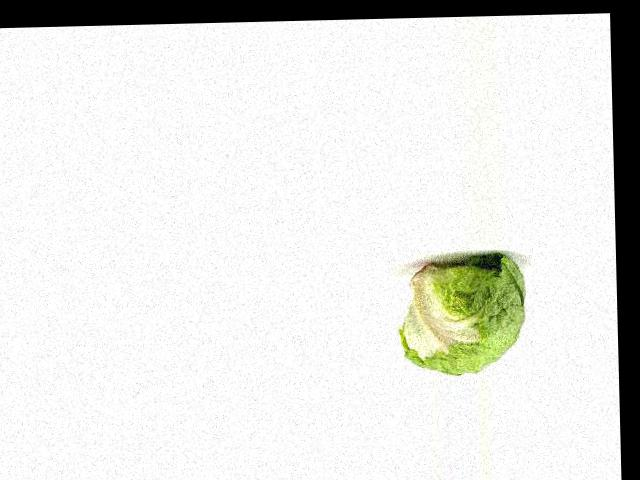lettuce: (399, 226, 552, 369)
